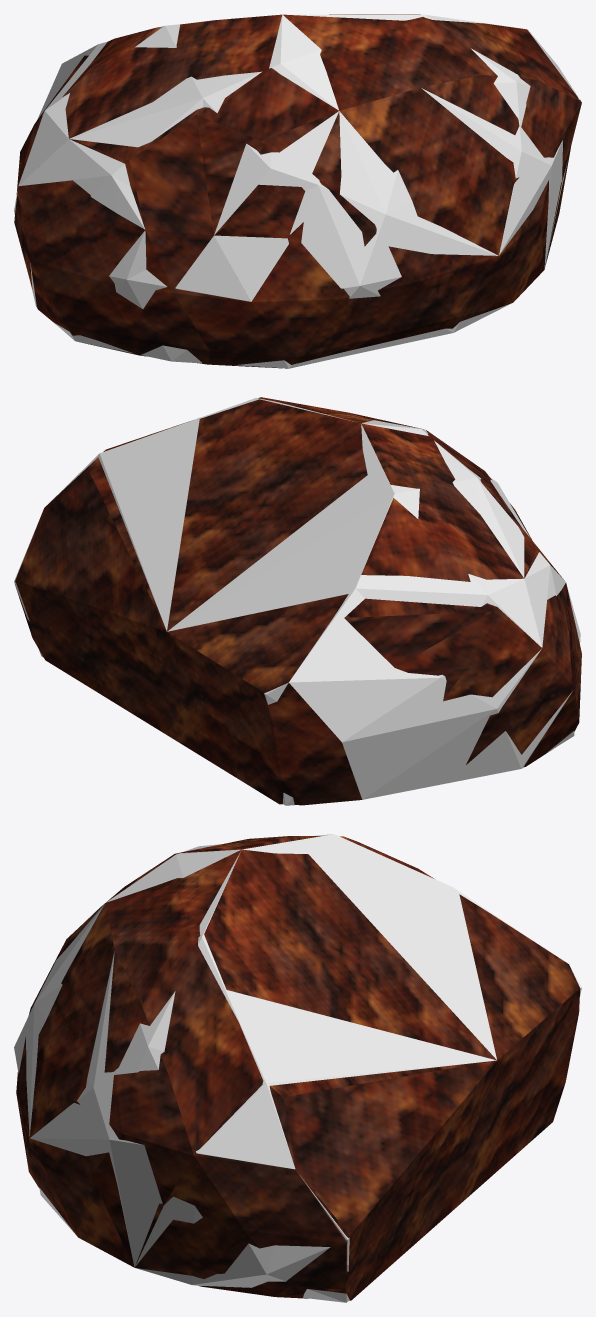
Rendered from Laterita-02-Matacao.glb.
3 views of the same model, one above another, from view 1: azimuth 30°, elevation 25°; view 2: azimuth 150°, elevation 25°; view 3: azimuth 270°, elevation 25° (orthographic). The views are drawn at different scales.
Parts seen in each view (by area): view 1: Laterita-02-Matacao, Laterita-02-Matacao_COL; view 2: Laterita-02-Matacao, Laterita-02-Matacao_COL; view 3: Laterita-02-Matacao, Laterita-02-Matacao_COL.
Boxes of the visible parts, x1,y1,x2,y2 form: Laterita-02-Matacao: (14, 14, 581, 368); Laterita-02-Matacao_COL: (14, 14, 579, 368); Laterita-02-Matacao: (15, 397, 581, 805); Laterita-02-Matacao_COL: (14, 398, 580, 805); Laterita-02-Matacao: (16, 836, 580, 1300); Laterita-02-Matacao_COL: (14, 834, 581, 1302).
Size of what is drawn, in the model's own units: 1.94 by 0.931 by 1.58.
1 material, 1 textured.
